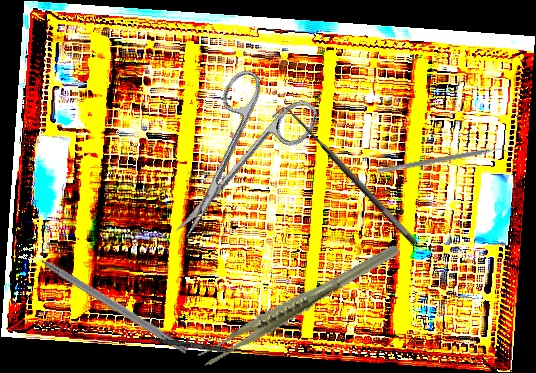Hook Surgical: (271, 99, 420, 256), (18, 242, 191, 355)
Iris Scissors: (139, 57, 325, 262)
Spatula Surgical: (377, 143, 509, 180), (139, 336, 254, 356)
Tissue Forceps: (183, 242, 415, 369)
